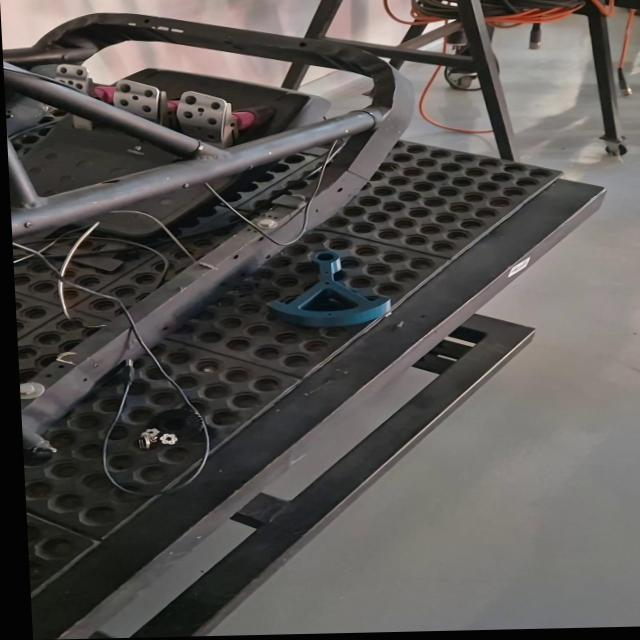haptic: (262, 249, 395, 329)
